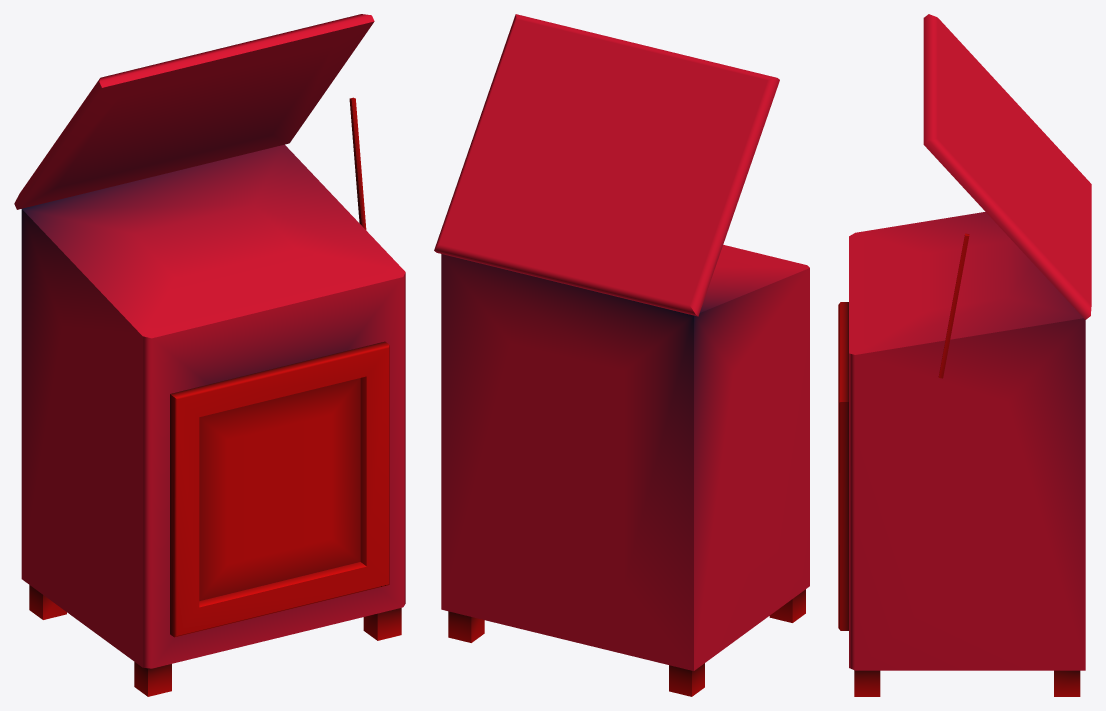
File: CI_Bakery_FlourBin.glb
The picture shows the model from 3 angles, left to right: view 1: azimuth 30°, elevation 25°; view 2: azimuth 150°, elevation 25°; view 3: azimuth 270°, elevation 25°; orthographic projection. The views are drawn at different scales.
Visible parts, largest first — view 1: CI_Bakery_FlourBin; view 2: CI_Bakery_FlourBin; view 3: CI_Bakery_FlourBin.
Boxes of the visible parts, x1=… form: CI_Bakery_FlourBin: x1=14, y1=14, x2=405, y2=696; CI_Bakery_FlourBin: x1=434, y1=14, x2=809, y2=696; CI_Bakery_FlourBin: x1=838, y1=14, x2=1091, y2=696.
Size of the model in its own units: 0.5764 by 1.18 by 0.4815.
